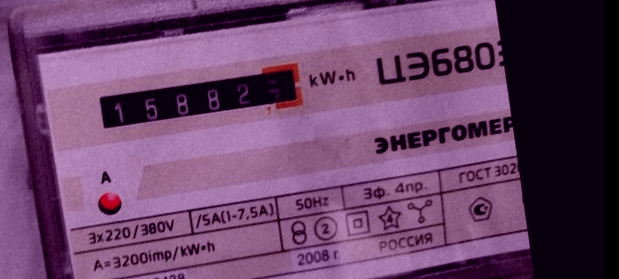1: (111, 97, 127, 125)
2: (234, 79, 253, 106)
5: (142, 94, 159, 122)
7: (266, 84, 283, 103)
8: (173, 89, 192, 116), (204, 85, 223, 112)
screen: (88, 55, 313, 143)
